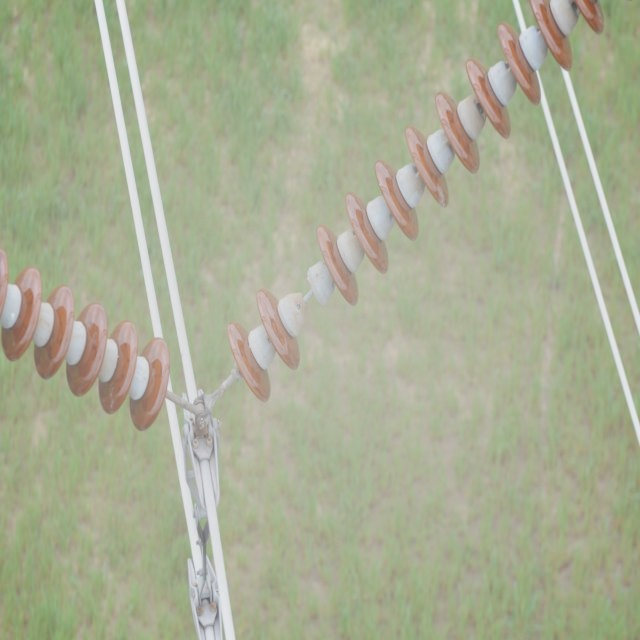broken: (302, 264, 328, 310)
insulator: (226, 0, 603, 400), (0, 250, 169, 430)
